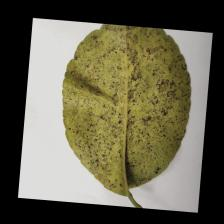canker: (79, 41, 170, 157)
